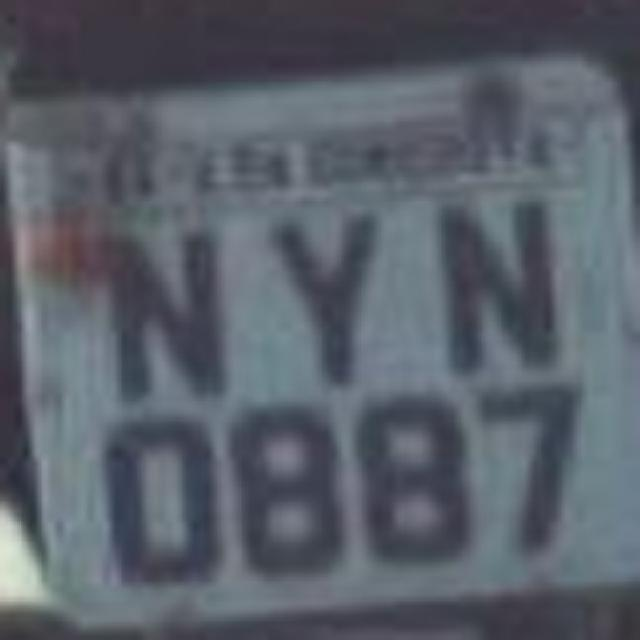0: (96, 400, 232, 592)
7: (468, 375, 592, 560)
8: (340, 385, 480, 580), (216, 392, 352, 580)
N: (424, 184, 571, 388), (105, 224, 240, 404)
Y: (268, 192, 388, 392)
